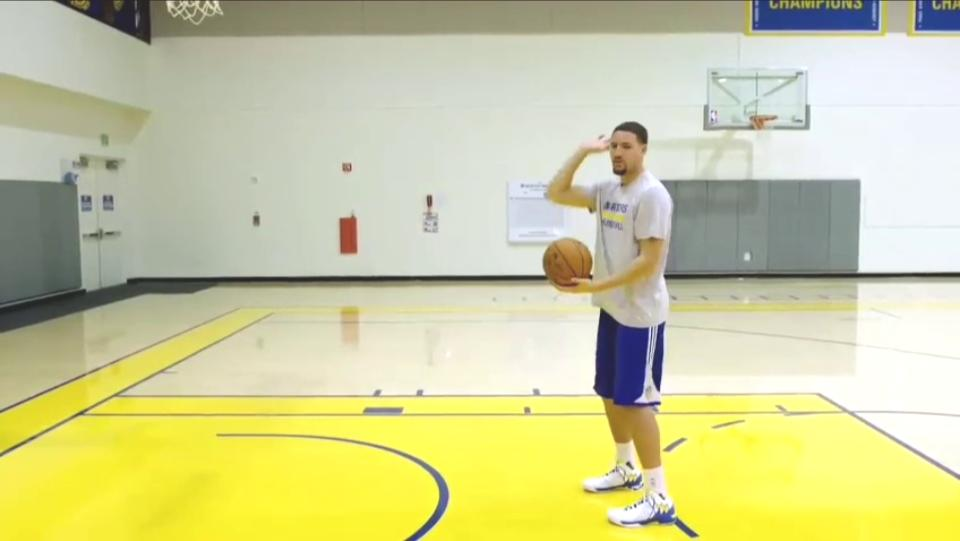hoop: (751, 114, 778, 119)
